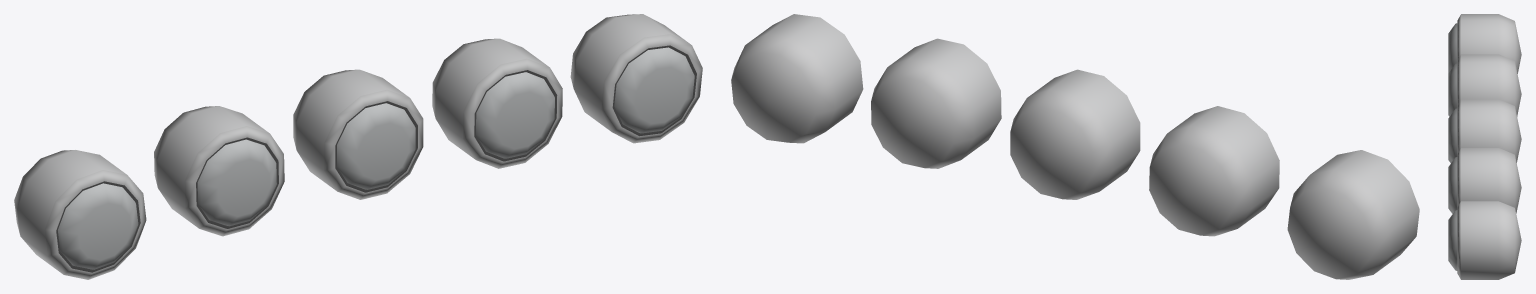
Rendered from Car_13_FogLight.fbx.
3 views of the same model, side by side, from view 1: azimuth 30°, elevation 25°; view 2: azimuth 150°, elevation 25°; view 3: azimuth 270°, elevation 25° (orthographic). The views are drawn at different scales.
Visible parts, largest first — view 1: Car_13_FogLight; view 2: Car_13_FogLight; view 3: Car_13_FogLight.
Part boxes in pixels (x1,y1,x2,y2): Car_13_FogLight: (14,14,702,279); Car_13_FogLight: (731,14,1419,279); Car_13_FogLight: (1448,14,1521,279).
Size of the model in its own units: 136 by 19.17 by 23.2.
